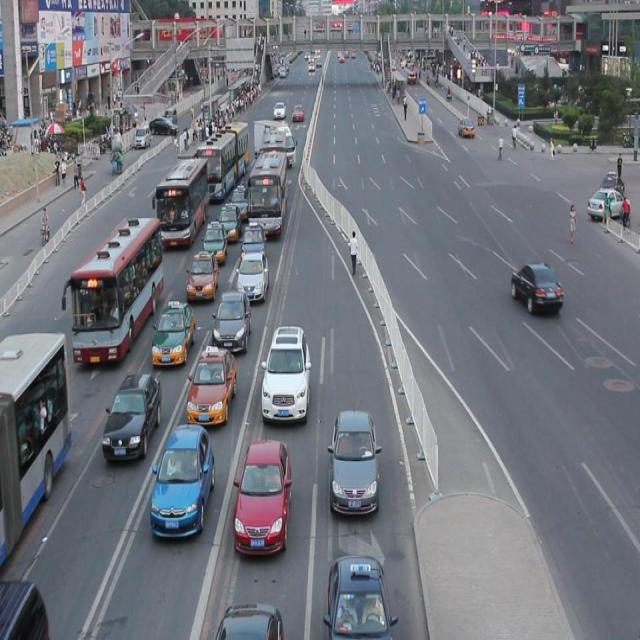BigCar: (74, 218, 159, 353), (145, 152, 212, 225), (204, 124, 250, 208)
car: (238, 426, 303, 570), (328, 396, 375, 524), (506, 259, 579, 332), (254, 319, 305, 422), (335, 552, 390, 640), (151, 277, 202, 363), (110, 359, 148, 473), (158, 437, 197, 543), (228, 246, 270, 298), (186, 236, 218, 301)
